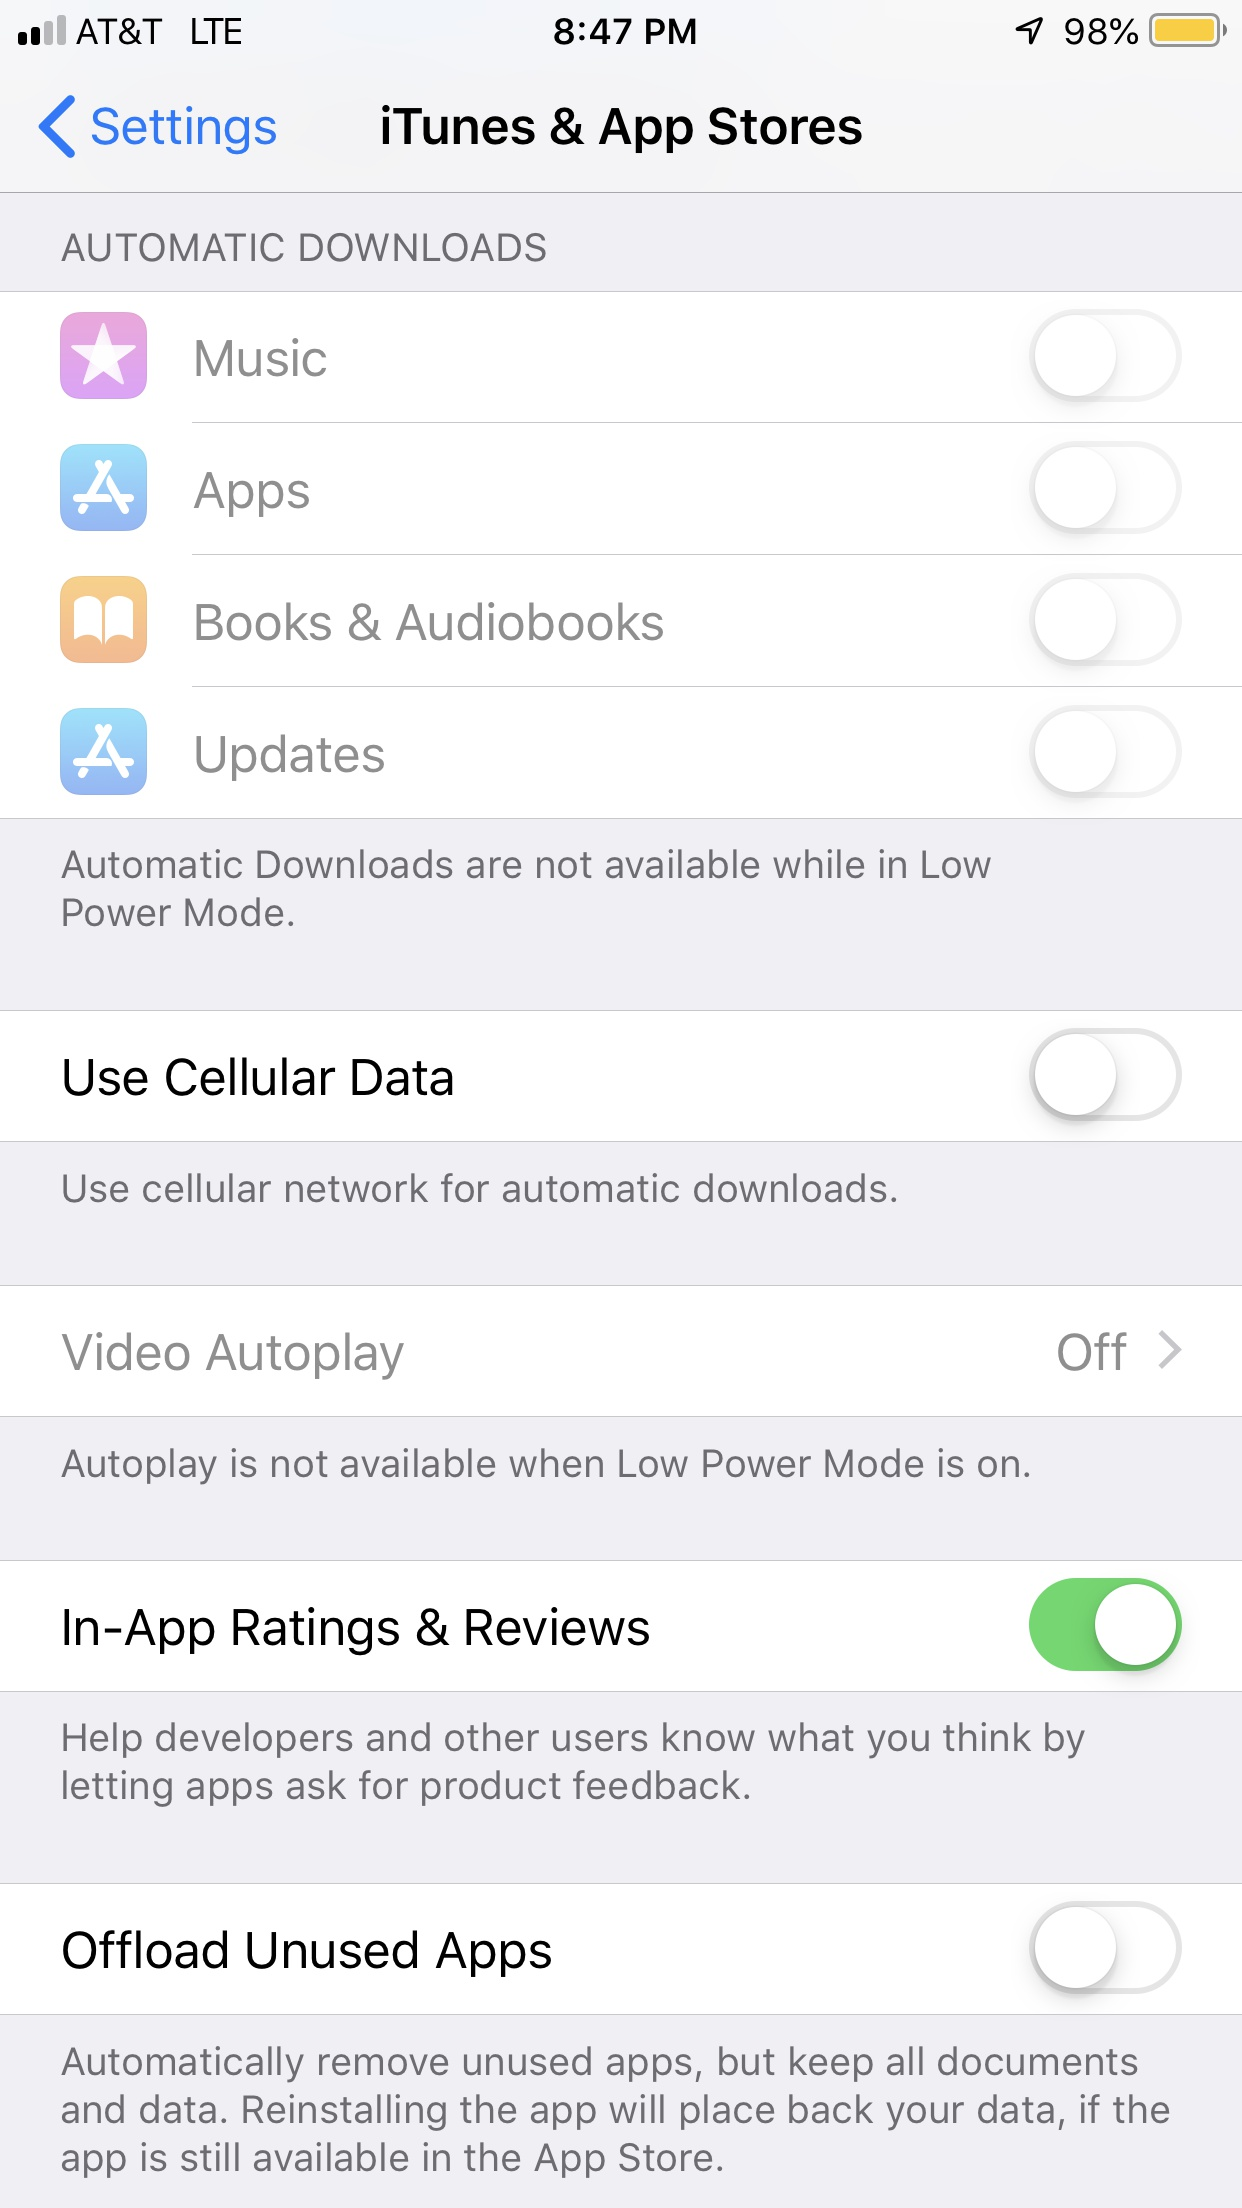Icon: (61, 312, 149, 400), (38, 96, 77, 161), (1157, 1328, 1183, 1369)
Image: (61, 443, 149, 532), (61, 576, 149, 666), (61, 708, 149, 798)
Switch: (1028, 705, 1183, 801), (1028, 1028, 1183, 1124), (1028, 1577, 1183, 1673), (1028, 1900, 1183, 1996), (1028, 309, 1183, 403), (1028, 573, 1183, 667), (1030, 441, 1183, 535)
Text: (62, 2046, 1171, 2181), (64, 1720, 1087, 1808), (61, 848, 992, 928), (62, 1447, 1030, 1486), (64, 1606, 651, 1656), (64, 1172, 898, 1204), (62, 1927, 552, 1977), (382, 105, 863, 155), (196, 602, 664, 641), (62, 1331, 406, 1382), (64, 1055, 453, 1096), (61, 232, 547, 264), (196, 732, 387, 783), (93, 106, 278, 156), (193, 472, 311, 519), (196, 338, 328, 379), (1057, 1331, 1128, 1372)
UpperTaskBar: (2, 2, 1242, 49)
